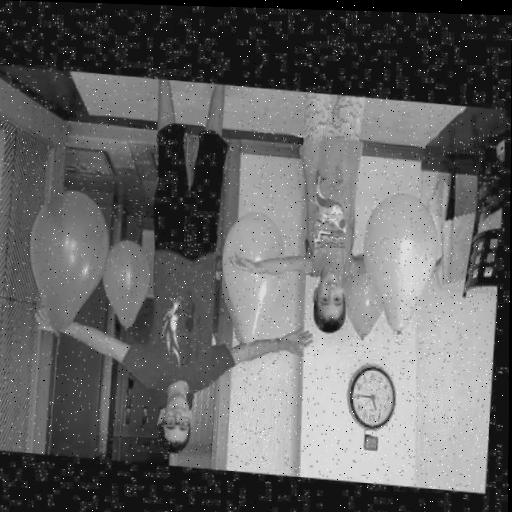balloon: (24, 190, 112, 338), (362, 190, 440, 352), (228, 209, 290, 349), (347, 268, 386, 352), (113, 241, 149, 329)
